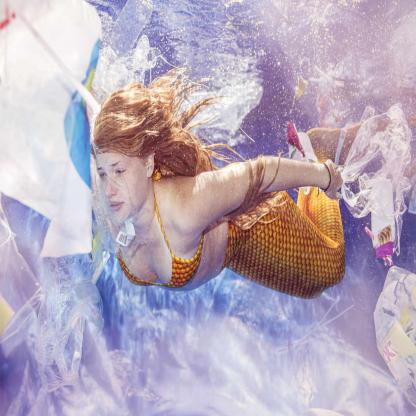bottle: (371, 179, 395, 261)
waste: (0, 2, 99, 253), (344, 111, 411, 215), (374, 267, 416, 408), (105, 1, 156, 70), (115, 218, 136, 247)
